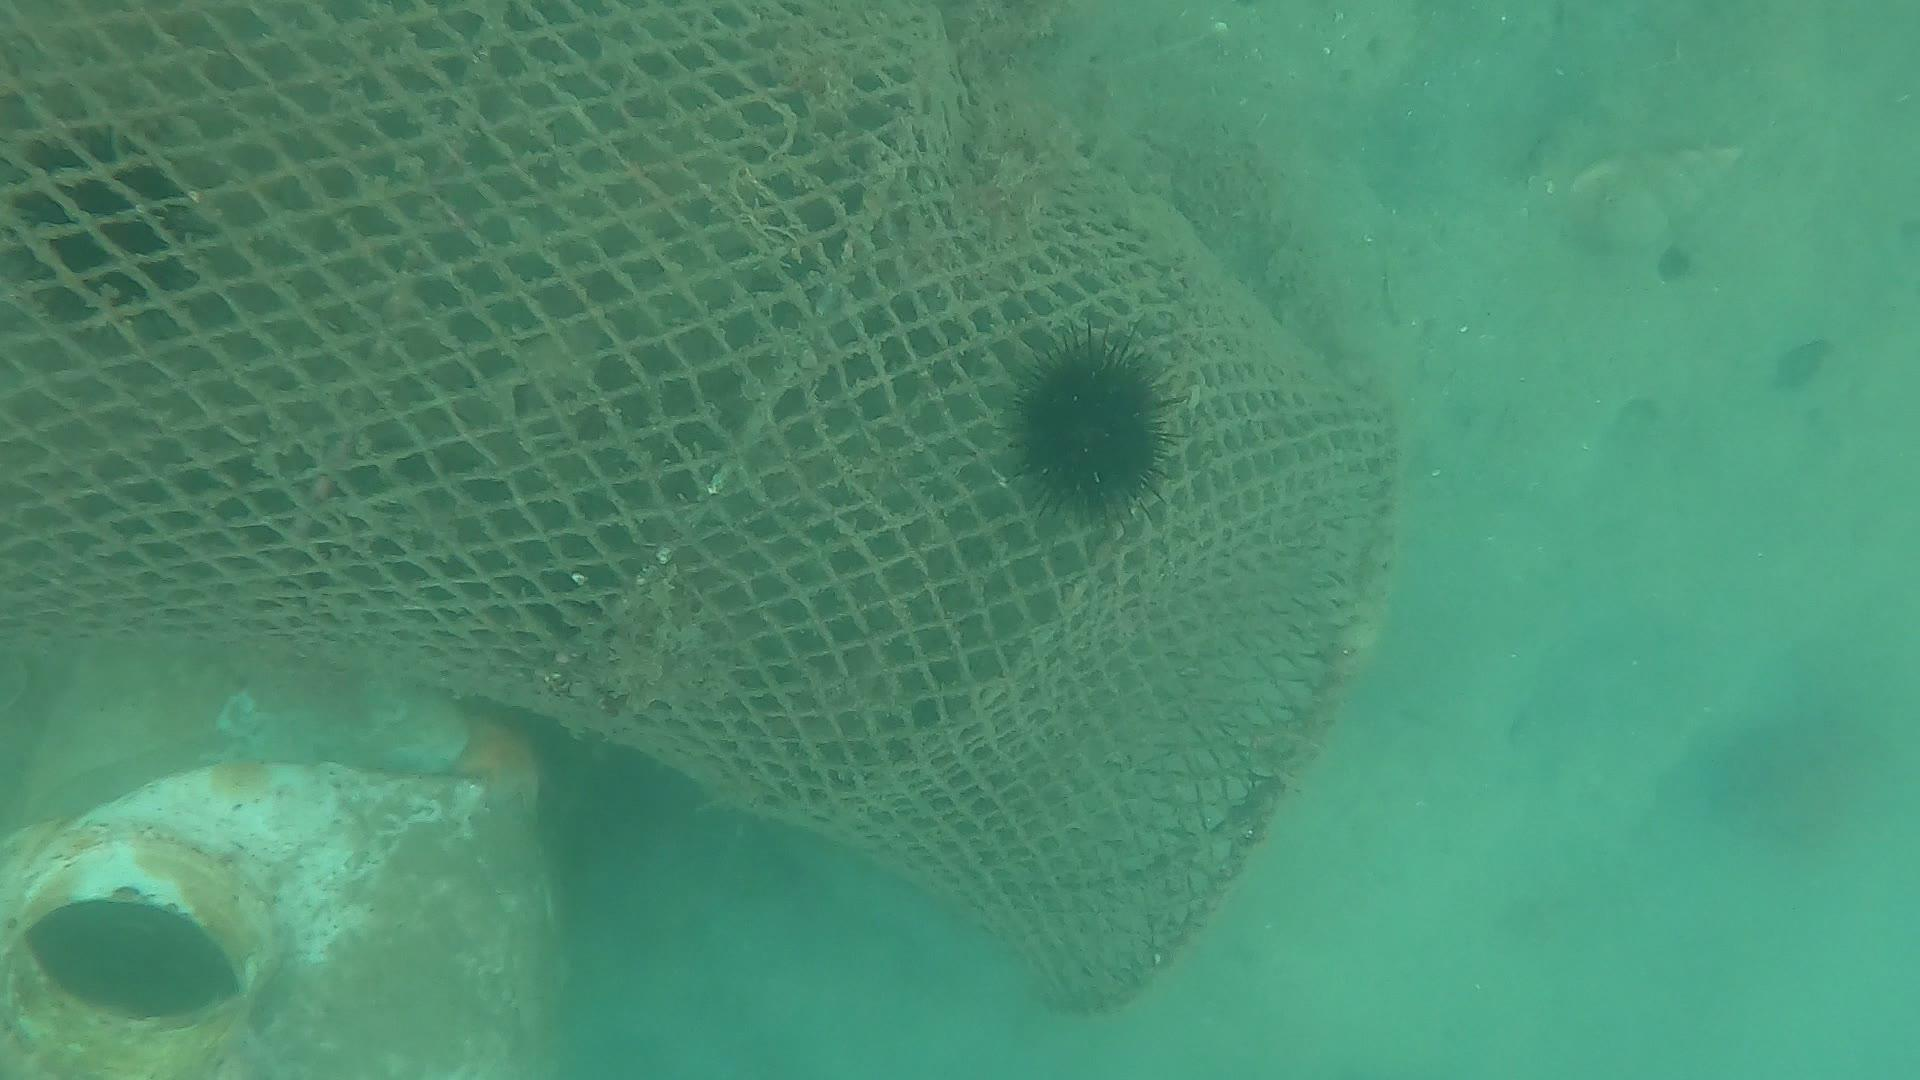spring fish trap: (0, 0, 1399, 1015)
